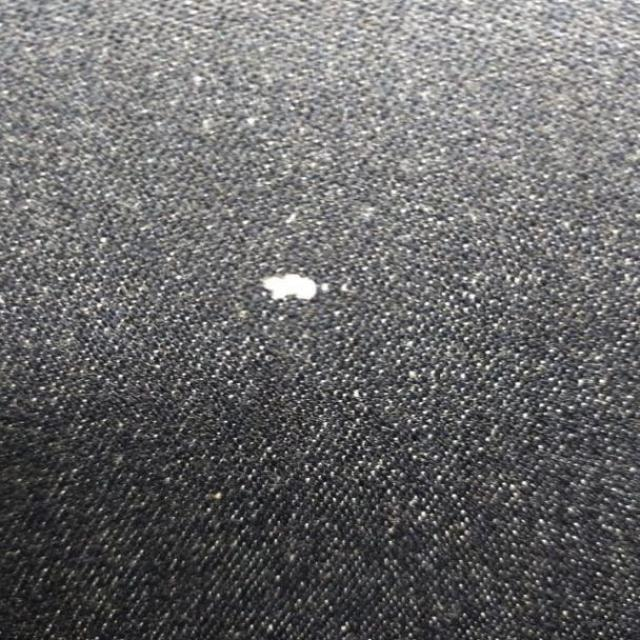Knot: (262, 274, 319, 300)
